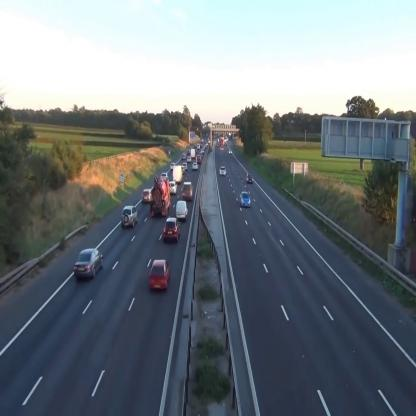car: (74, 249, 103, 278), (149, 259, 171, 291), (164, 217, 180, 242), (122, 205, 138, 228), (240, 192, 250, 208), (142, 189, 151, 202), (169, 181, 177, 194), (246, 172, 254, 183), (220, 166, 226, 176), (193, 162, 198, 170)
lorry: (151, 178, 170, 215), (175, 201, 188, 221), (182, 182, 194, 200), (173, 165, 182, 184)
